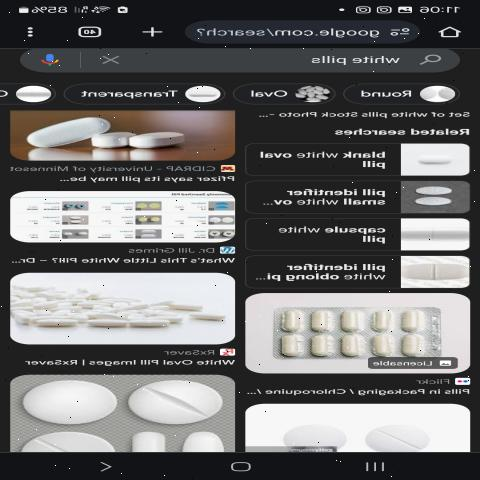Pill: (118, 374, 226, 429), (0, 380, 127, 426), (9, 114, 114, 151), (356, 422, 433, 453), (126, 122, 193, 155), (142, 296, 222, 315), (396, 330, 434, 362), (411, 146, 458, 170), (22, 313, 78, 330), (273, 333, 309, 358), (404, 184, 456, 198), (407, 193, 449, 210)
